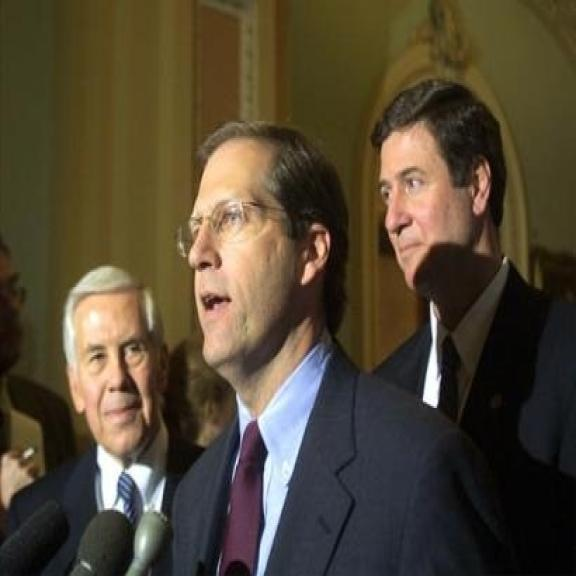face: (174, 136, 332, 376), (371, 110, 496, 301), (67, 285, 172, 456)
